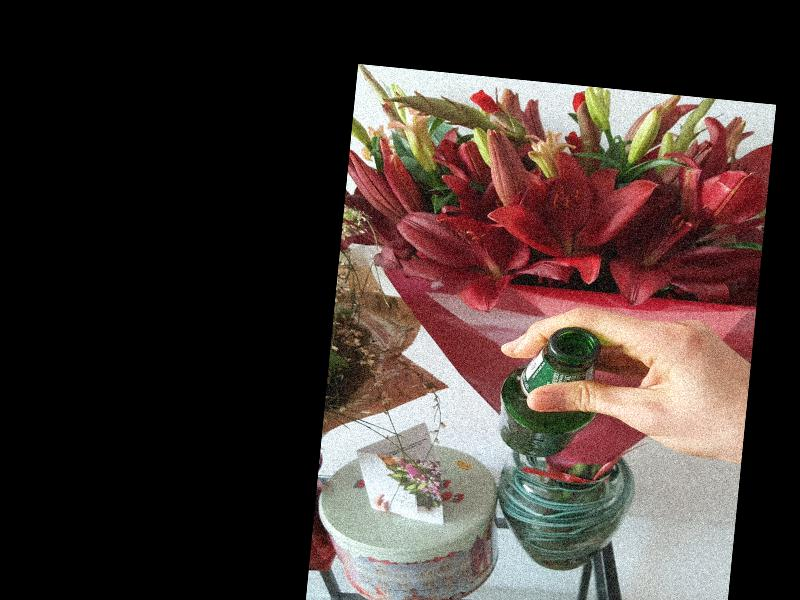Beer: (495, 320, 605, 462)
